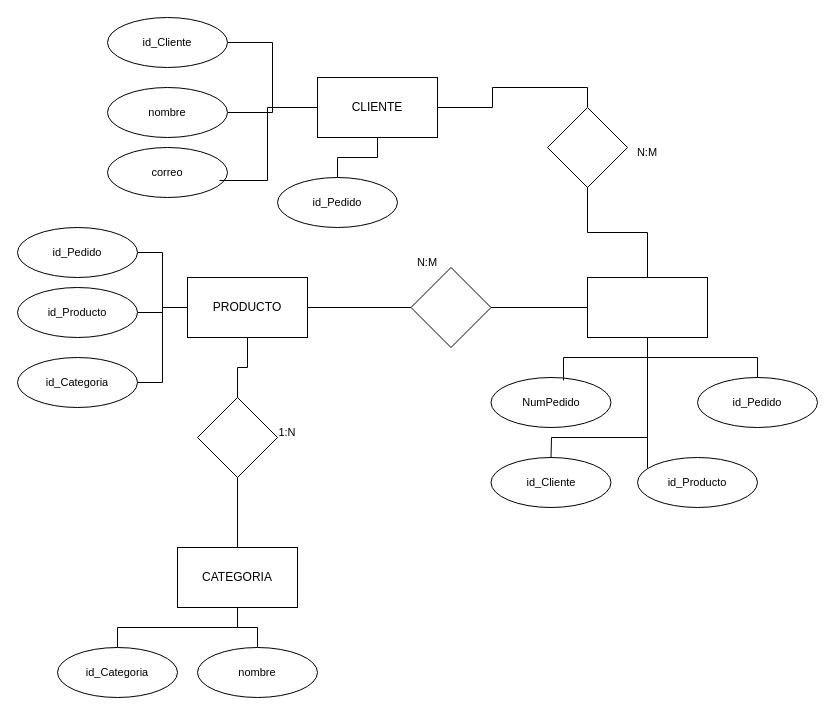
Image size: 835x715. Some labels were removed from this diagram. The box of each missing label's shape, as (x1, y1, x2, y2) in pixels:
contiene: (410, 266, 491, 348)
PEDIDO: (586, 276, 708, 338)
realiza: (546, 106, 628, 188)
tiene: (196, 396, 278, 478)
